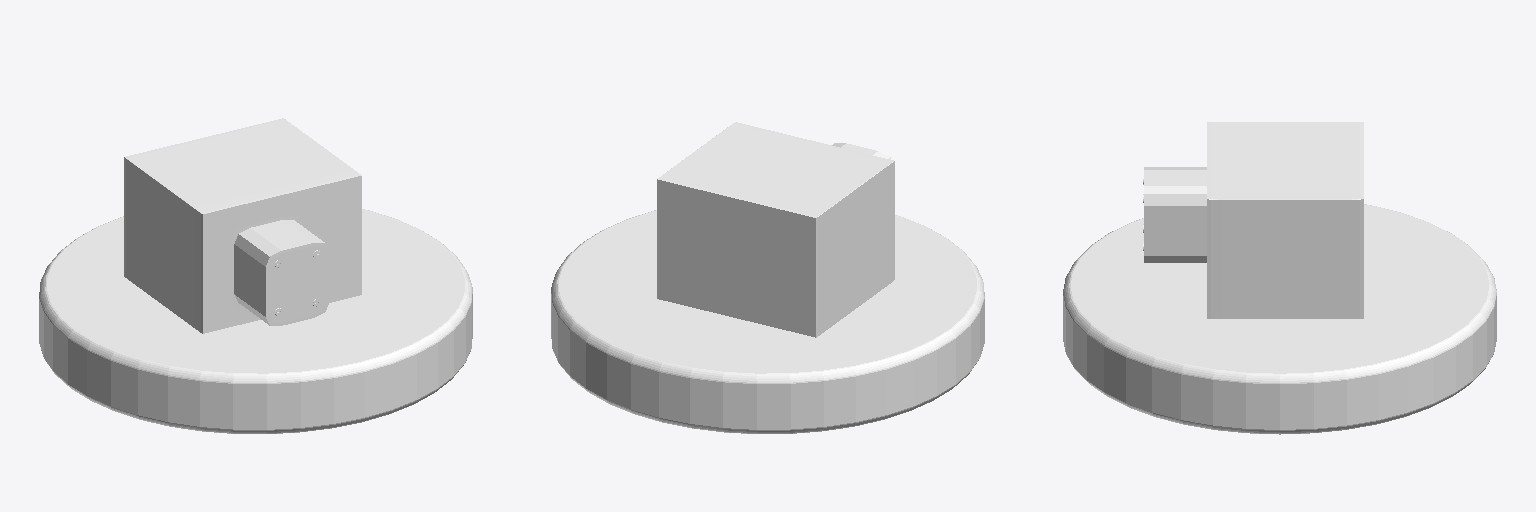
File: ArmRotationBase.obj
3 renders of one model, left to right at view 1: azimuth 30°, elevation 25°; view 2: azimuth 150°, elevation 25°; view 3: azimuth 270°, elevation 25°, orthographic.
Visible parts, largest first — view 1: prova_braccio.002; view 2: prova_braccio.002; view 3: prova_braccio.002.
Part boxes in pixels (left/top/right/bottom): prova_braccio.002: left=39, top=118, right=472, bottom=433; prova_braccio.002: left=551, top=122, right=984, bottom=433; prova_braccio.002: left=1063, top=122, right=1496, bottom=434.
Bounding box in the file's own units: 2.15 × 0.9906 × 2.15.